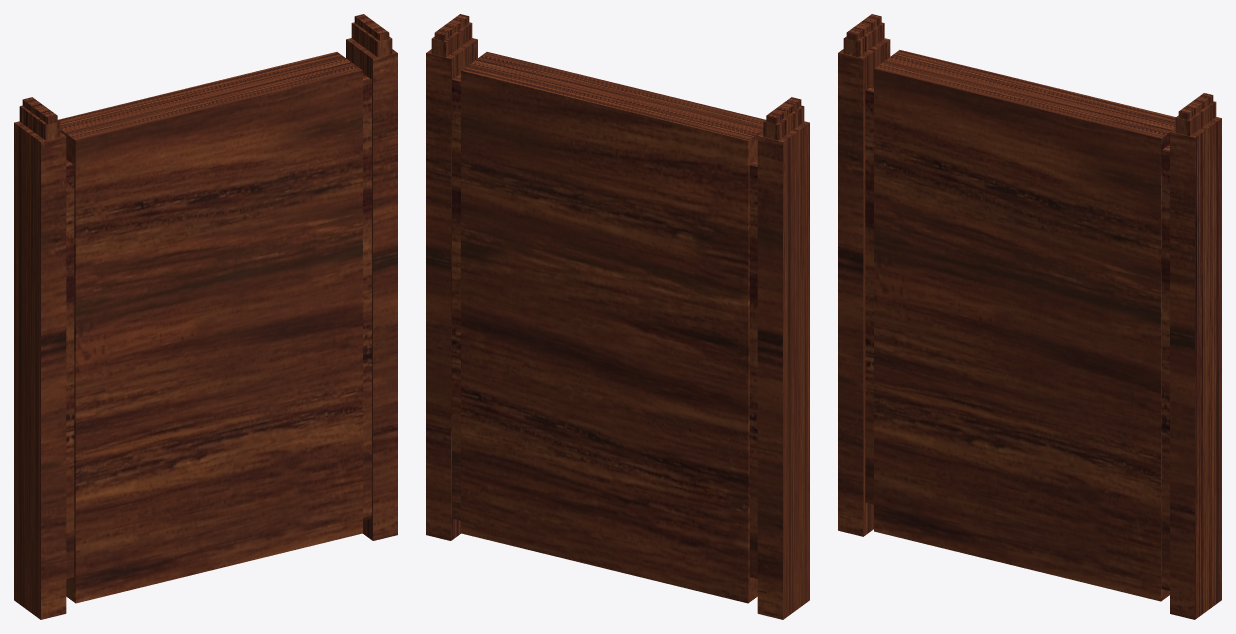
File: Pagerr.fbx
3 views of the same model, side by side, from view 1: azimuth 30°, elevation 25°; view 2: azimuth 150°, elevation 25°; view 3: azimuth 330°, elevation 25° (orthographic).
Visible parts, largest first — view 1: pager; view 2: pager; view 3: pager.
Boxes of the visible parts, box(x1,y1,x2,y2) form: pager: box(14, 14, 397, 619); pager: box(426, 14, 809, 619); pager: box(838, 14, 1221, 619).
Size of the model in its own units: 214 by 288 by 27.97.
